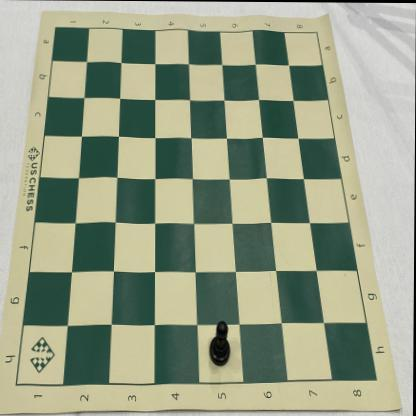black-pawn: (209, 320, 231, 367)
